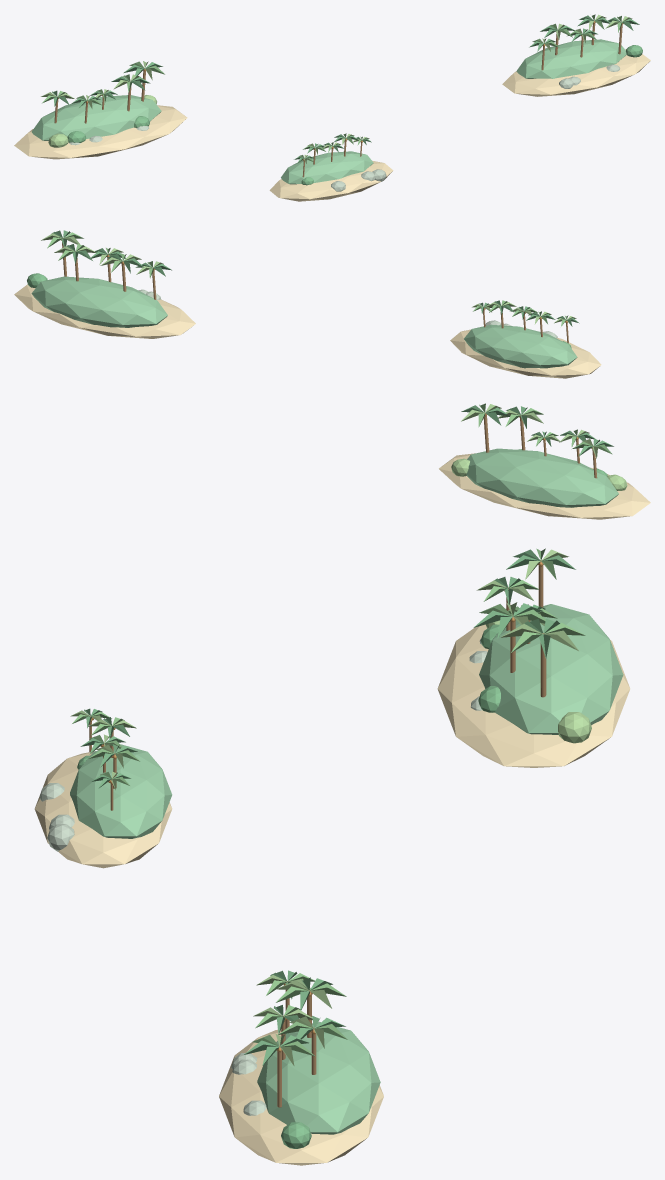
File: holiday-islands.glb
3 renders of one model, top to bottom at view 1: azimuth 30°, elevation 25°; view 2: azimuth 150°, elevation 25°; view 3: azimuth 270°, elevation 25°, orthographic. The views are drawn at different scales.
Visible parts, largest first — view 1: 青草小岛, 海湾沙洲, 棕榈叶, 棕榈叶.002, 棕榈叶.001, 圆润海石, 棕榈树干; view 2: 青草小岛, 海湾沙洲, 棕榈叶, 棕榈叶.002, 棕榈叶.001, 棕榈树干; view 3: 青草小岛, 海湾沙洲, 棕榈叶, 棕榈叶.002, 棕榈叶.001, 圆润海石, 棕榈树干.
Boxes of the visible parts, x1,y1,x2,y2 form: 青草小岛: (31, 39, 626, 184); 海湾沙洲: (14, 49, 650, 201); 棕榈叶: (52, 15, 642, 185); 棕榈叶.002: (41, 14, 632, 163); 棕榈叶.001: (42, 14, 622, 161); 圆润海石: (69, 64, 619, 191); 棕榈树干: (54, 20, 622, 177); 青草小岛: (31, 276, 618, 507); 海湾沙洲: (14, 284, 650, 519); 棕榈叶: (27, 230, 613, 476); 棕榈叶.002: (41, 233, 627, 490); 棕榈叶.001: (47, 232, 612, 454); 棕榈树干: (62, 238, 597, 478); 青草小岛: (70, 604, 623, 1134); 海湾沙洲: (34, 624, 630, 1165); 棕榈叶: (77, 549, 575, 1148); 棕榈叶.002: (70, 549, 591, 1065); 棕榈叶.001: (72, 548, 585, 1056); 圆润海石: (39, 639, 487, 1115); 棕榈树干: (89, 560, 546, 1107).
Bounding box in the file's own units: 152 × 16.49 × 69.2.
